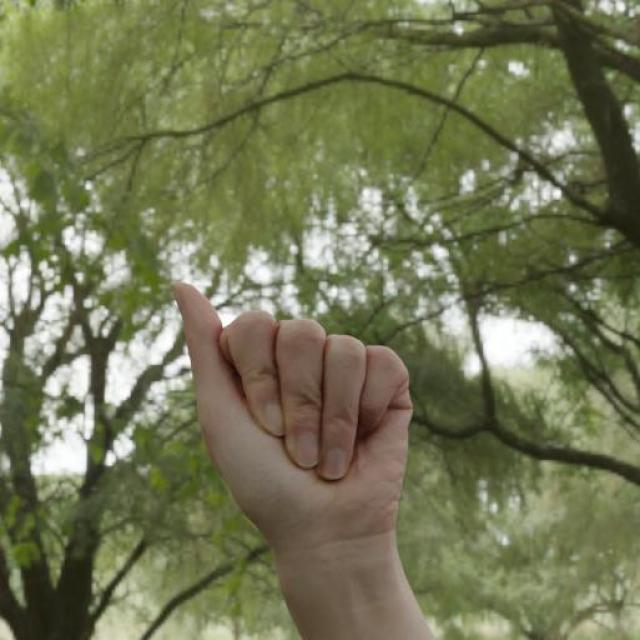A: (166, 278, 418, 542)
